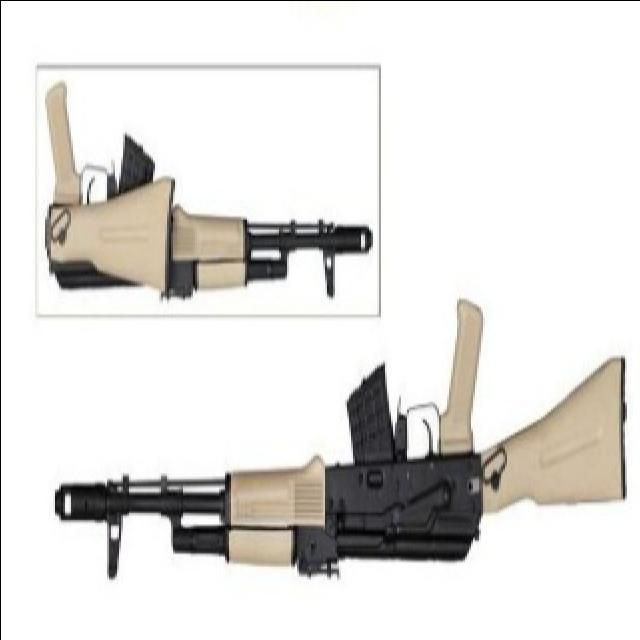rifle: (53, 331, 625, 596), (43, 82, 371, 313)
